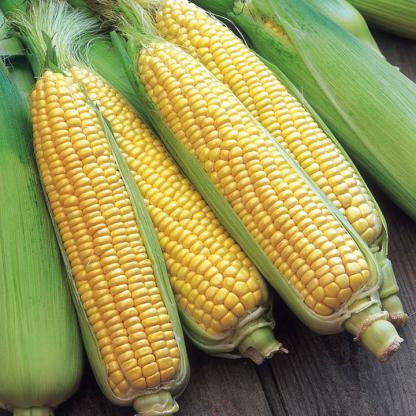---: (141, 38, 393, 348), (60, 34, 290, 370), (160, 0, 389, 256), (25, 56, 188, 399)
